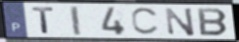4: (100, 6, 127, 37)
B: (197, 7, 230, 37)
C: (130, 7, 161, 36)
I: (69, 5, 83, 37)
N: (163, 7, 197, 37)
T: (31, 6, 57, 35)
